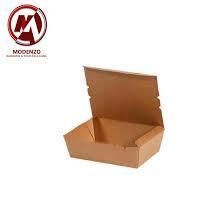box: (64, 66, 164, 167)
